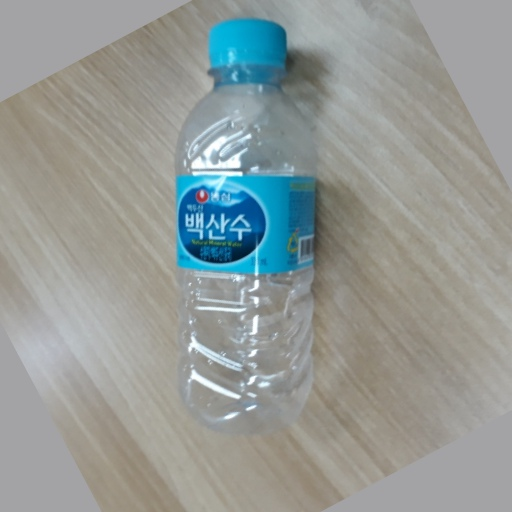Plastic_0: (172, 19, 315, 433)
